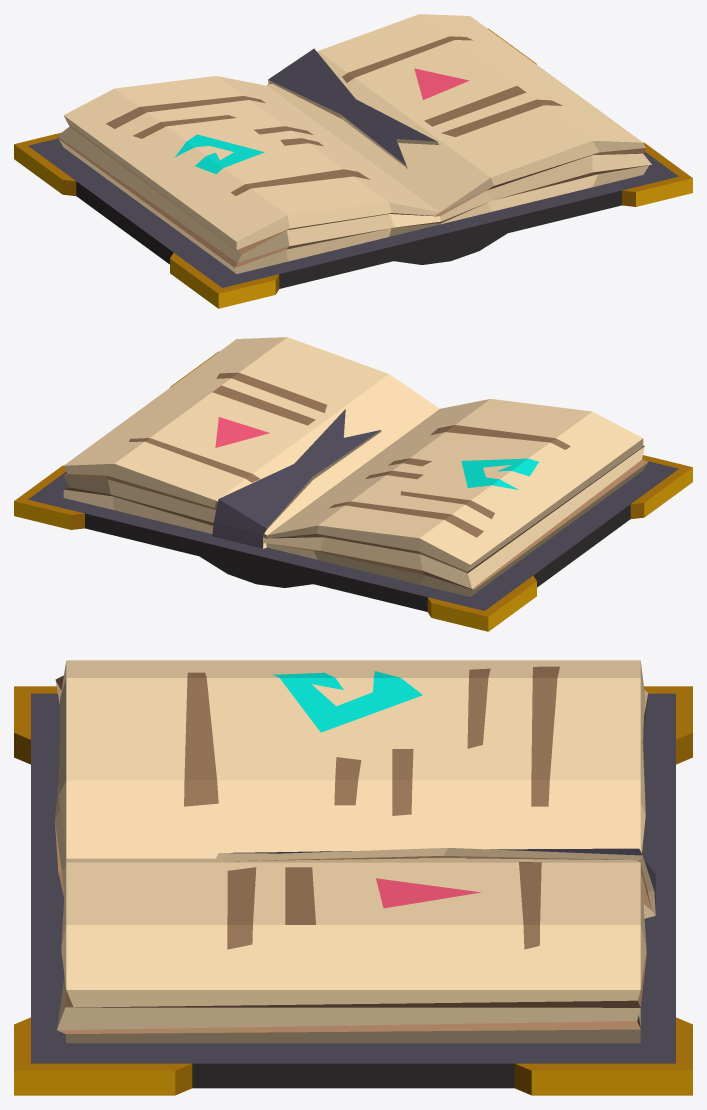
File: Book_05.glb
The picture shows the model from 3 angles, top to bottom: view 1: azimuth 30°, elevation 25°; view 2: azimuth 150°, elevation 25°; view 3: azimuth 270°, elevation 25°; orthographic projection. The views are drawn at different scales.
Visible parts, largest first — view 1: Book_05; view 2: Book_05; view 3: Book_05.
Part boxes in pixels (box(x1,y1,x2,y2)): Book_05: box(14, 14, 692, 308); Book_05: box(14, 337, 692, 631); Book_05: box(14, 660, 692, 1095).
Size of what is drawn, in the model's own units: 0.6534 by 0.1023 by 0.488.
1 material, 1 textured.
